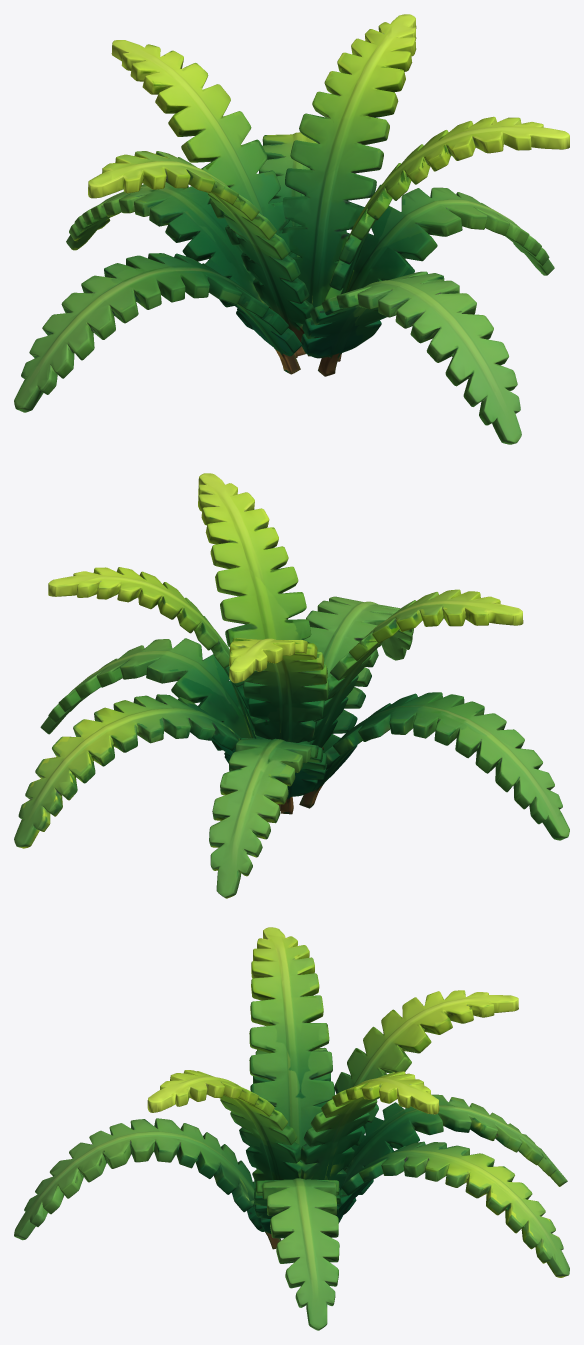
File: fern-a.glb
3 renders of one model, top to bottom at view 1: azimuth 30°, elevation 25°; view 2: azimuth 150°, elevation 25°; view 3: azimuth 270°, elevation 25°, orthographic. The views are drawn at different scales.
Visible parts, largest first — view 1: node_0; view 2: node_0; view 3: node_0.
Part boxes in pixels (x1,y1,x2,y2): node_0: (14, 14, 569, 444); node_0: (14, 473, 569, 898); node_0: (14, 927, 569, 1330).
Bounding box in the file's own units: 1 × 0.4376 × 1.
1 material, 1 textured.
